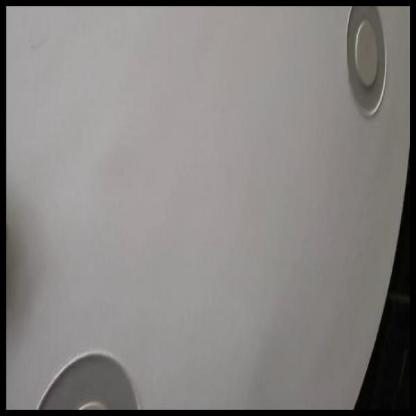light_off: (28, 314, 149, 408), (332, 9, 398, 123)
